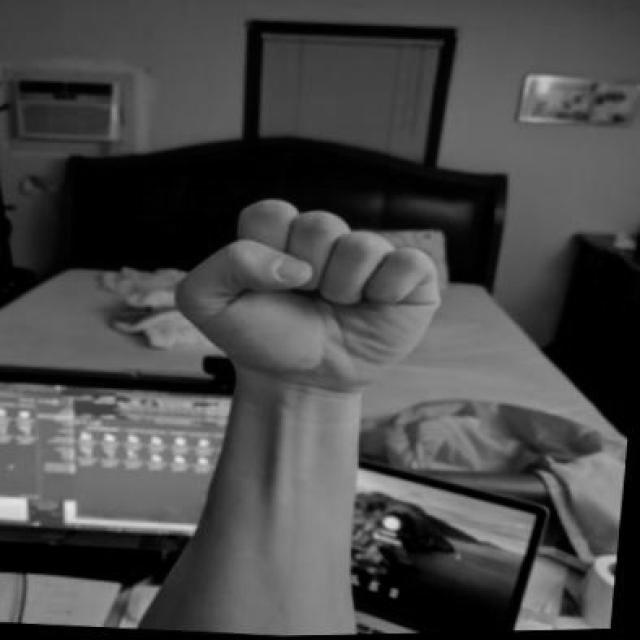S: (164, 188, 458, 402)
